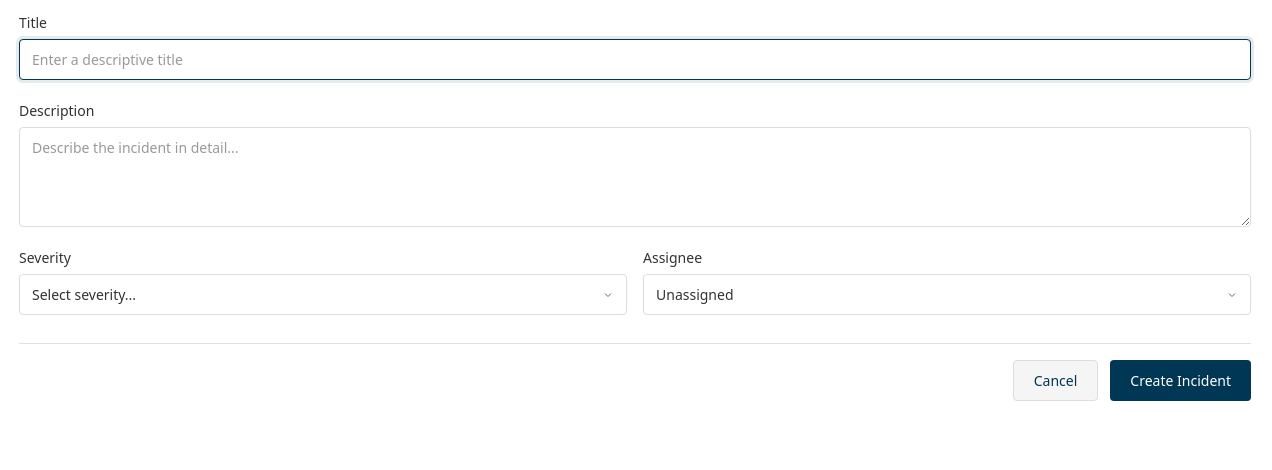
Scenario: IncidentForm › Validation › shows error when description is too short
Type "Valid Title" into the field labelled "Title" at (635, 60), box [19,39,1251,80]
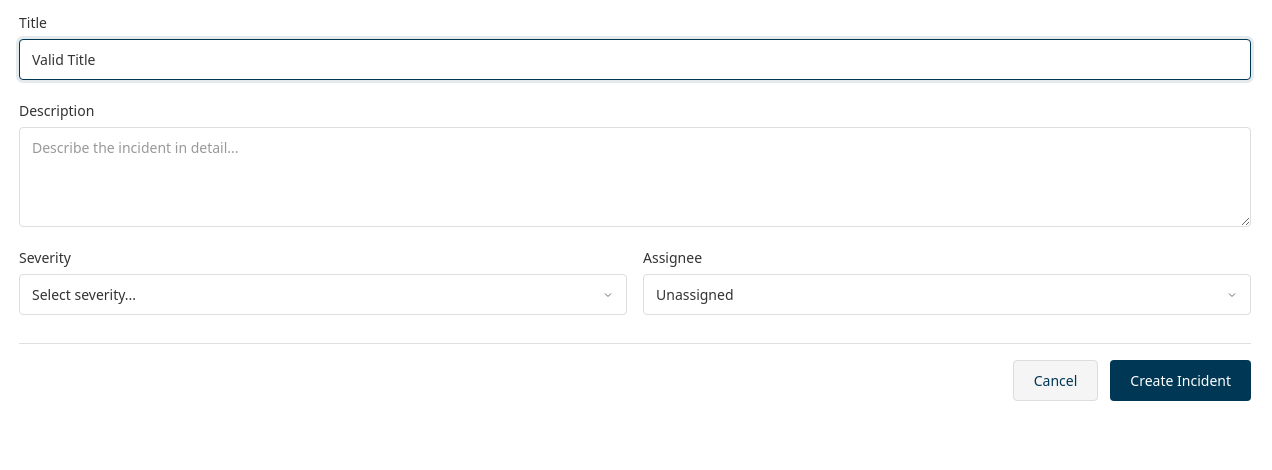
Type "Short" into the text box labelled "Description" at (635, 177), box [19,127,1251,227]
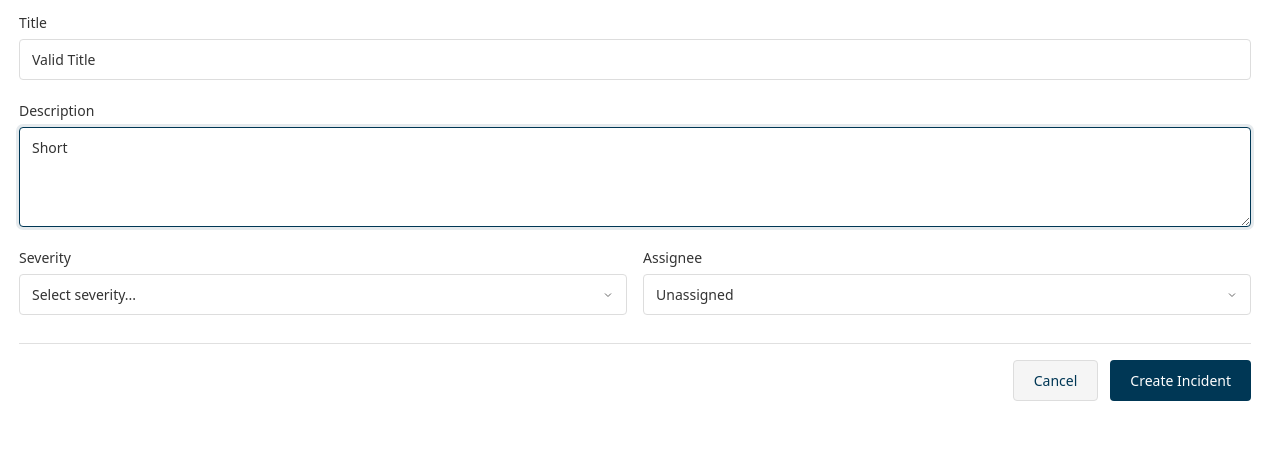
Click the button "Create Incident" at (1181, 380), box [1110,360,1251,401]
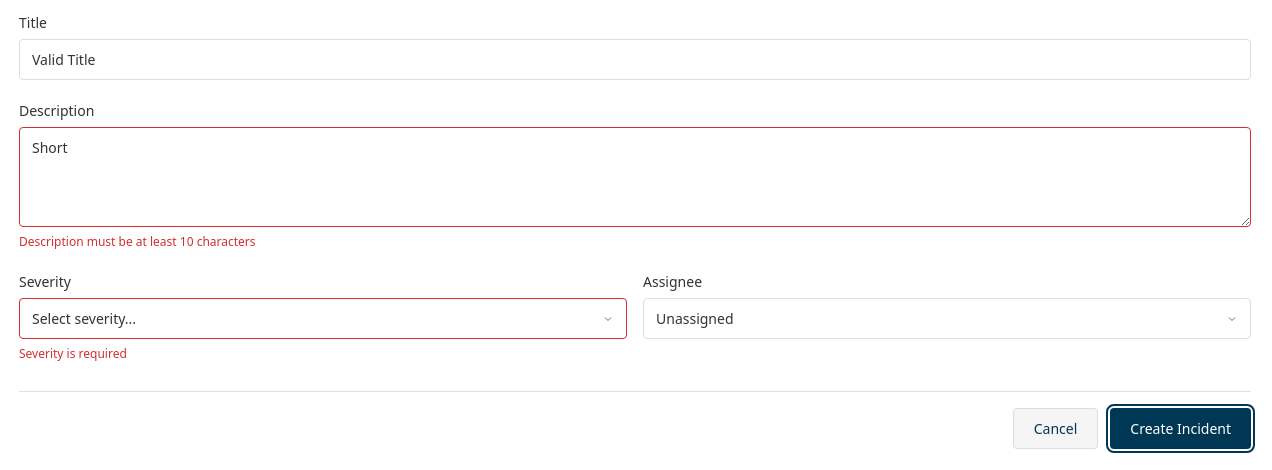
Expected: the text "Description must be at least 10 characters" is shown, [19,233,256,250]
